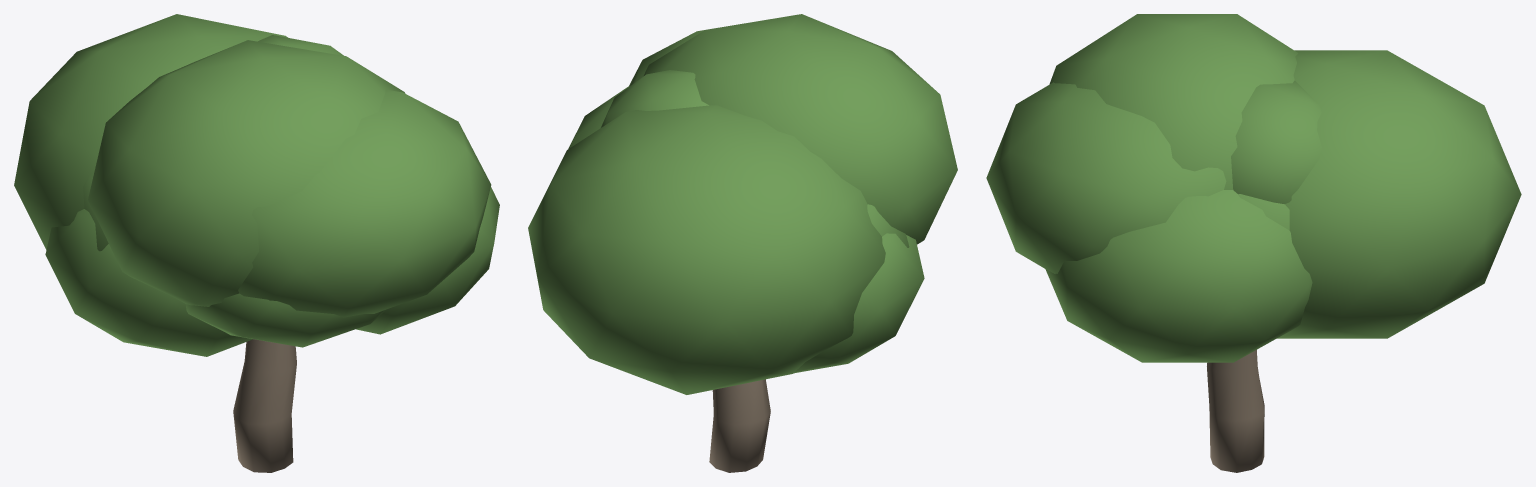
File: tree_oak.glb
3 renders of one model, left to right at view 1: azimuth 30°, elevation 25°; view 2: azimuth 150°, elevation 25°; view 3: azimuth 270°, elevation 25°, orthographic. The views are drawn at different scales.
Parts seen in each view (by area): view 1: tree_oak; view 2: tree_oak; view 3: tree_oak.
Boxes of the visible parts, box(x1,y1,x2,y2) form: tree_oak: box(14, 14, 499, 472); tree_oak: box(528, 14, 957, 472); tree_oak: box(986, 14, 1521, 472).
Size of the model in its own units: 3.38 by 3.74 by 4.32.
